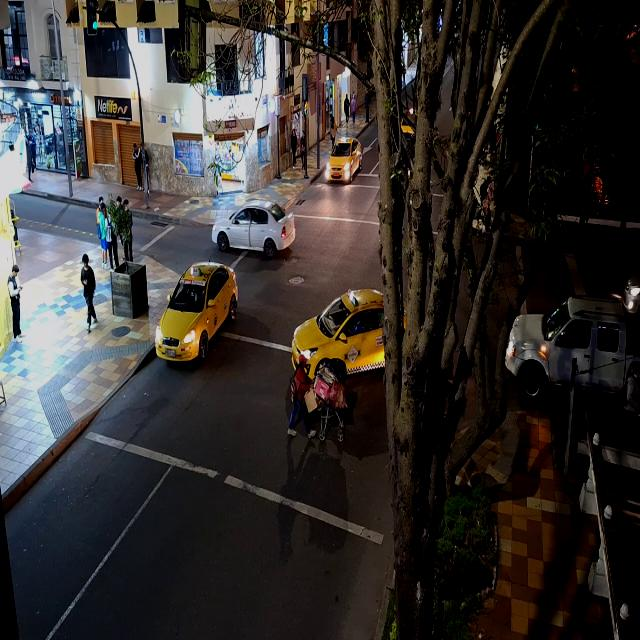CMT: (506, 298, 638, 401)
SED: (154, 260, 237, 362), (292, 289, 388, 370), (214, 203, 295, 254), (329, 139, 360, 183)
